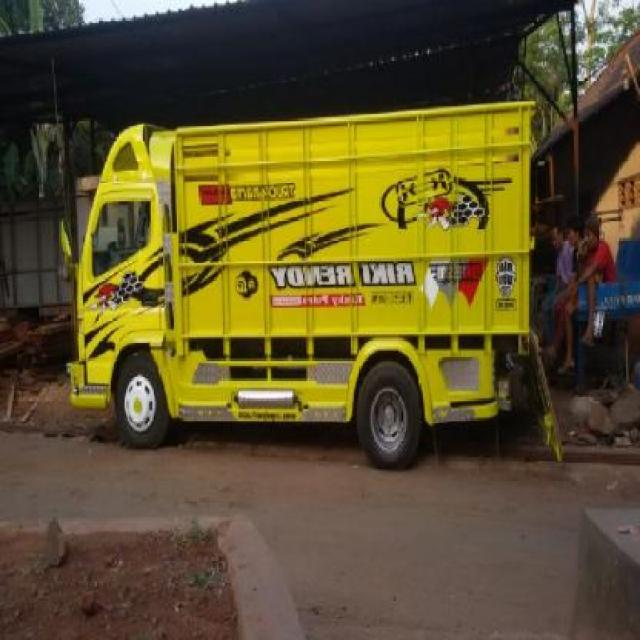truck: (62, 102, 539, 460)
